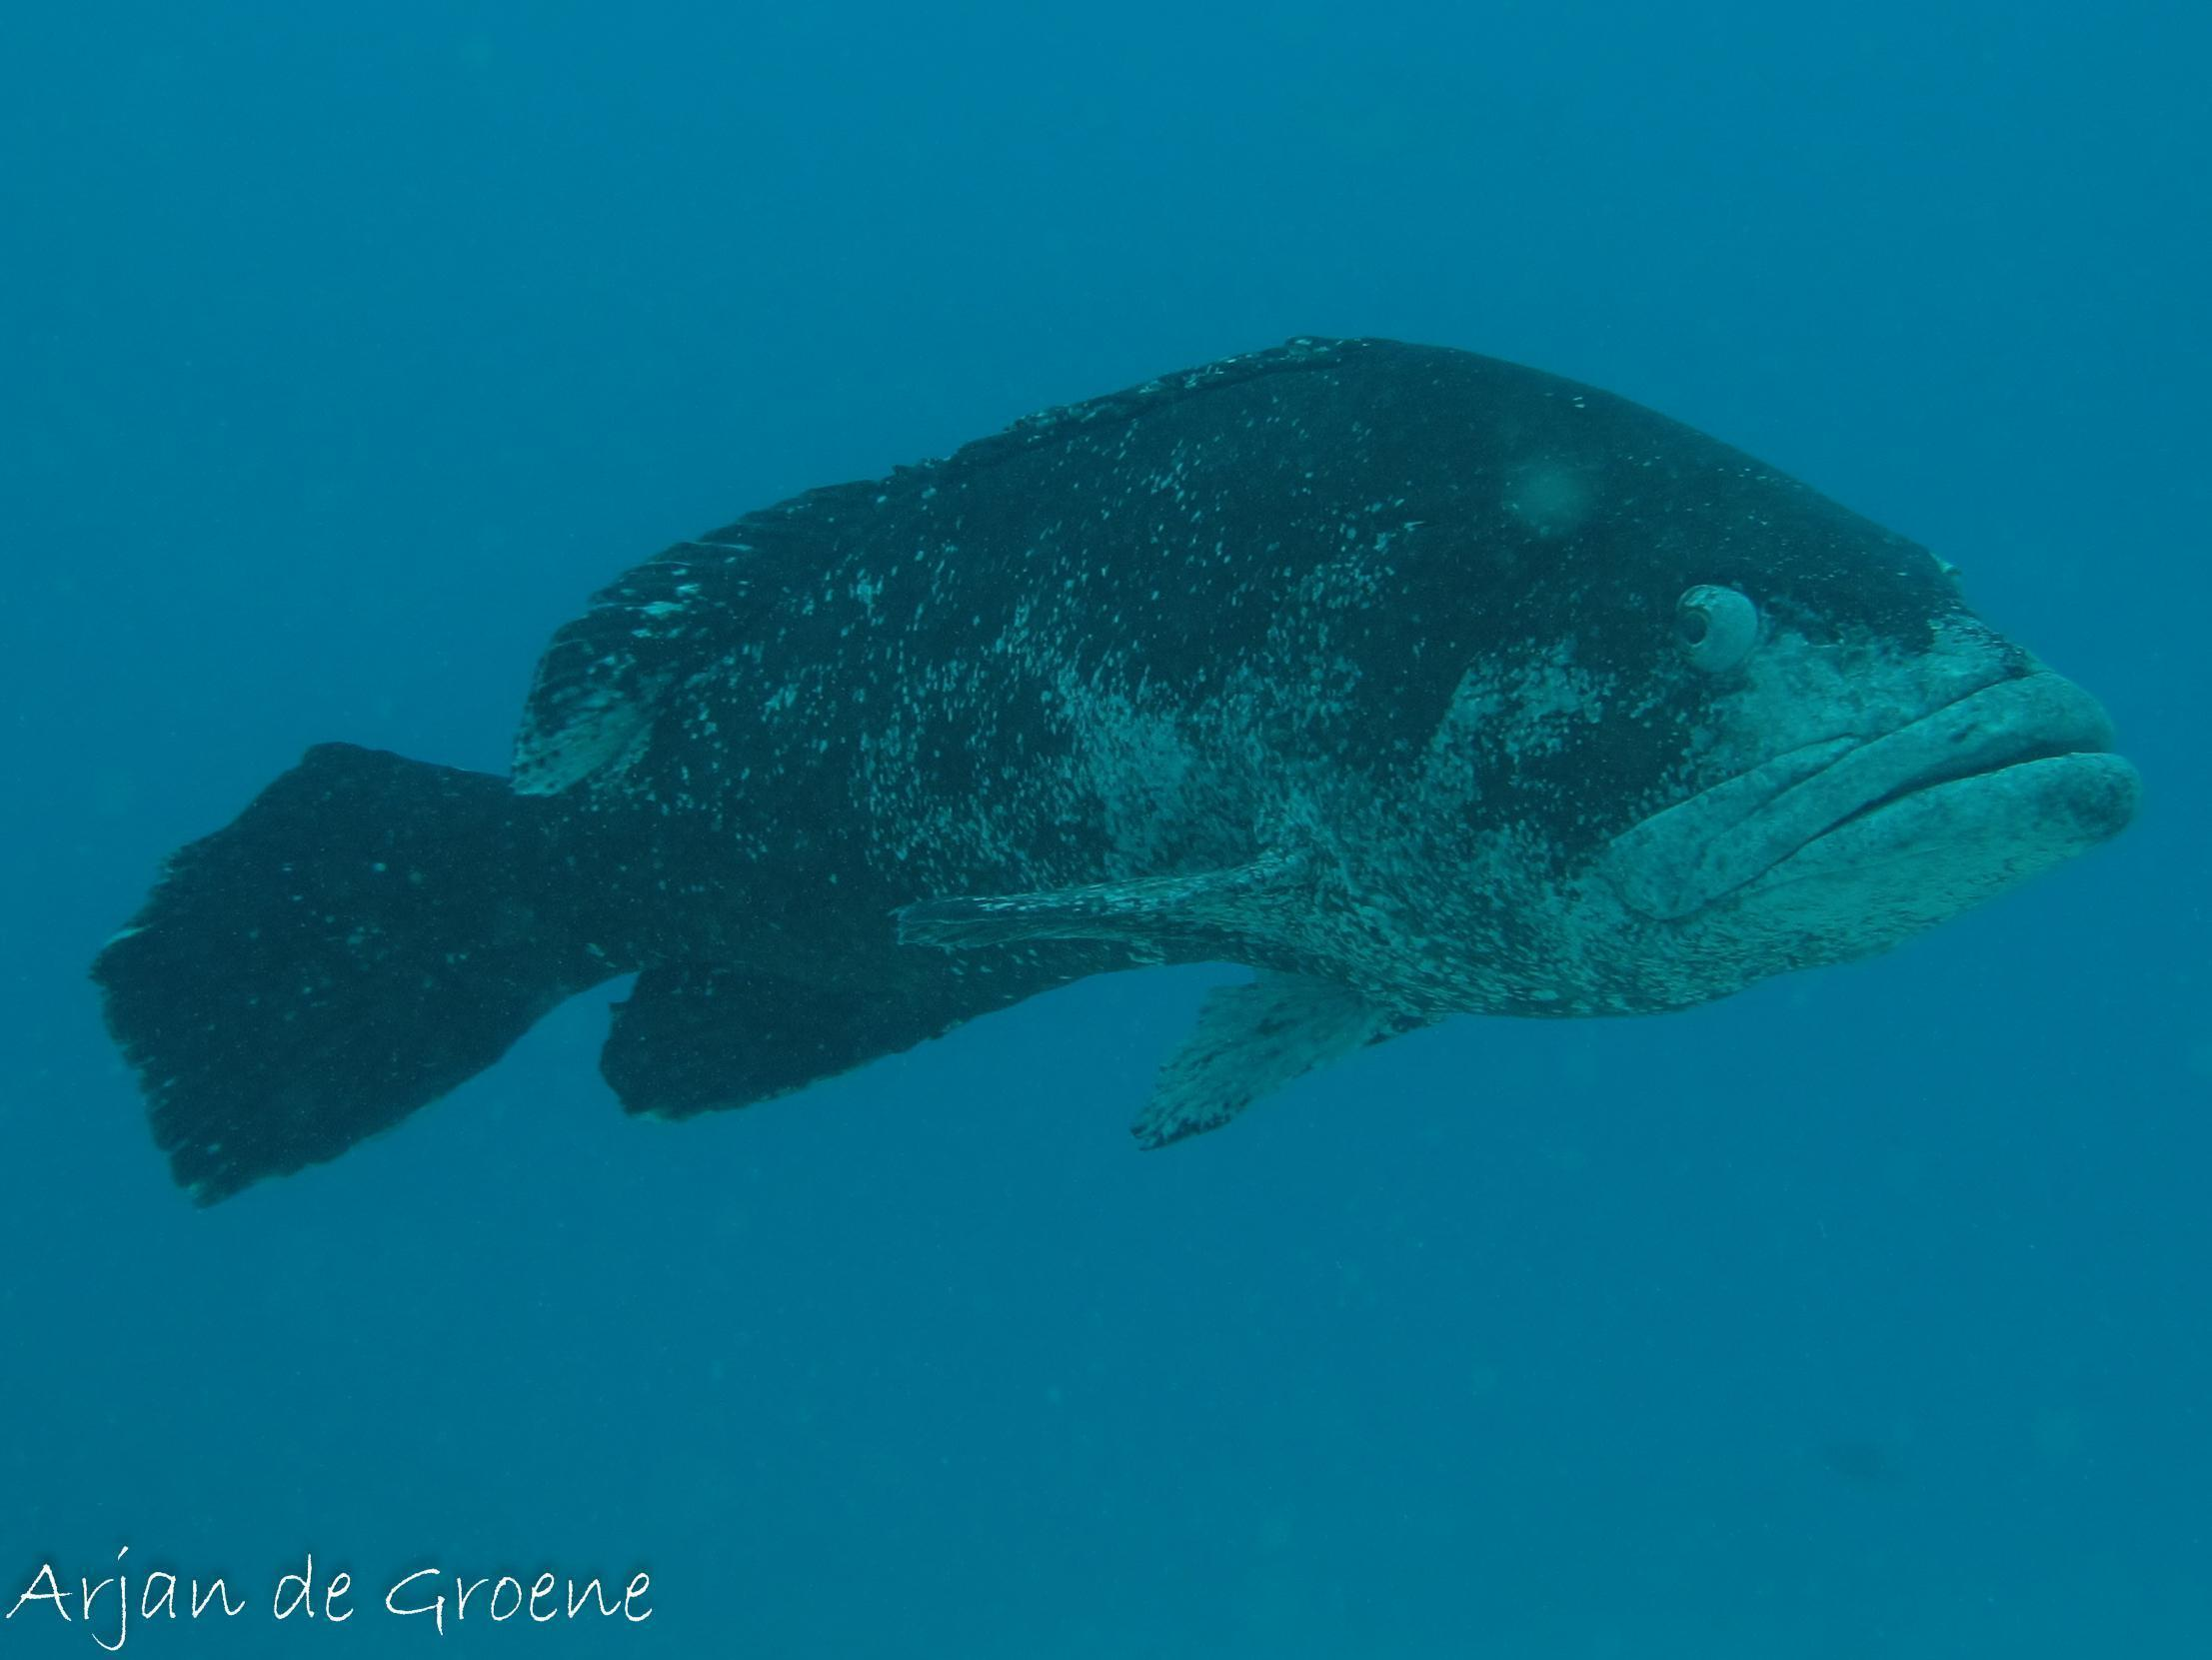Fish: (68, 209, 2170, 1494)
